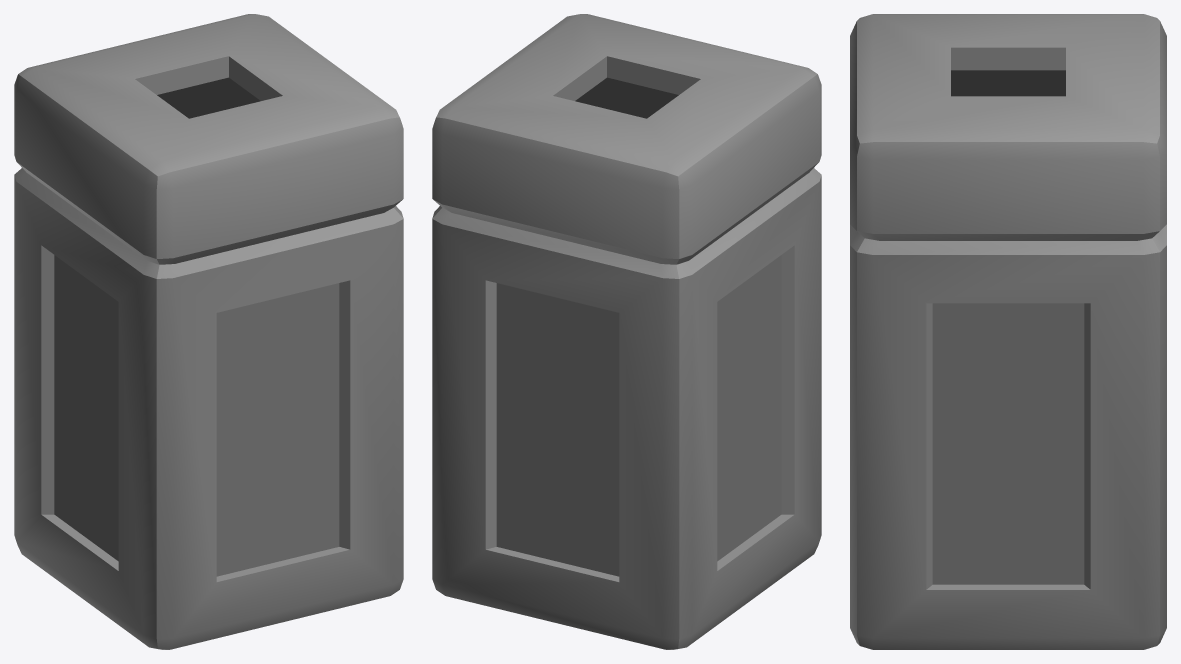
Rendered from M_Trashcan_0.fbx.
3 views of the same model, side by side, from view 1: azimuth 30°, elevation 25°; view 2: azimuth 150°, elevation 25°; view 3: azimuth 270°, elevation 25° (orthographic). The views are drawn at different scales.
Parts seen in each view (by area): view 1: M_Trashcan_0; view 2: M_Trashcan_0; view 3: M_Trashcan_0.
Part boxes in pixels (x1,y1,x2,y2): M_Trashcan_0: (14,14,403,649); M_Trashcan_0: (432,14,821,649); M_Trashcan_0: (850,14,1166,649).
Bounding box in the file's own units: 229 × 414 × 229.
